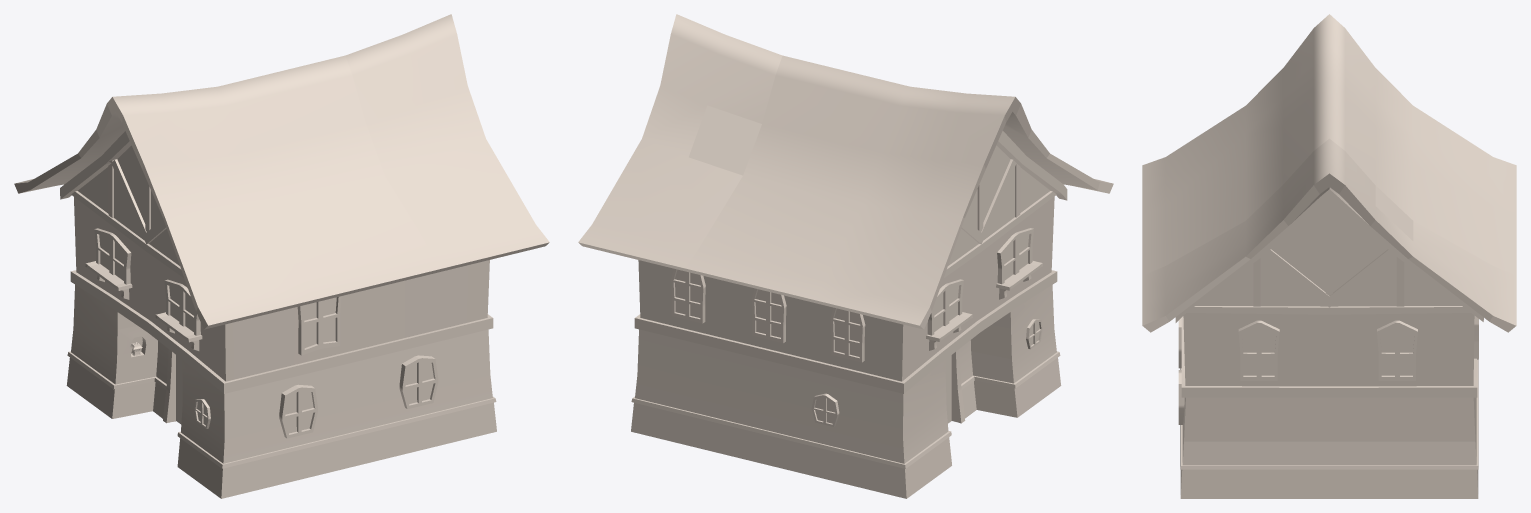
The model's file is House 5.fbx.
3 views of the same model, side by side, from view 1: azimuth 30°, elevation 25°; view 2: azimuth 150°, elevation 25°; view 3: azimuth 270°, elevation 25° (orthographic). The views are drawn at different scales.
Parts seen in each view (by area): view 1: polySurface43; view 2: polySurface43; view 3: polySurface43.
Part boxes in pixels (x1=…): polySurface43: x1=14, y1=14, x2=549, y2=498; polySurface43: x1=578, y1=14, x2=1113, y2=498; polySurface43: x1=1142, y1=14, x2=1516, y2=498.
Size of the model in its own units: 692 by 685 by 681.
